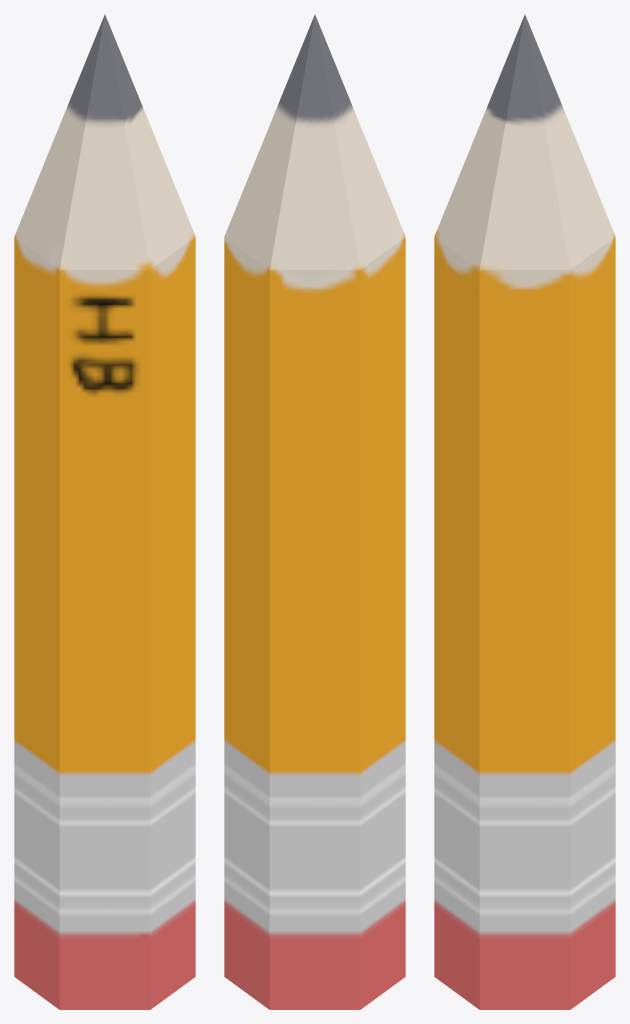
3 renders of one model, left to right at view 1: azimuth 30°, elevation 25°; view 2: azimuth 150°, elevation 25°; view 3: azimuth 270°, elevation 25°, orthographic.
Size of the model in its own units: 1.73 by 11.71 by 2.
1 material, 1 textured.
